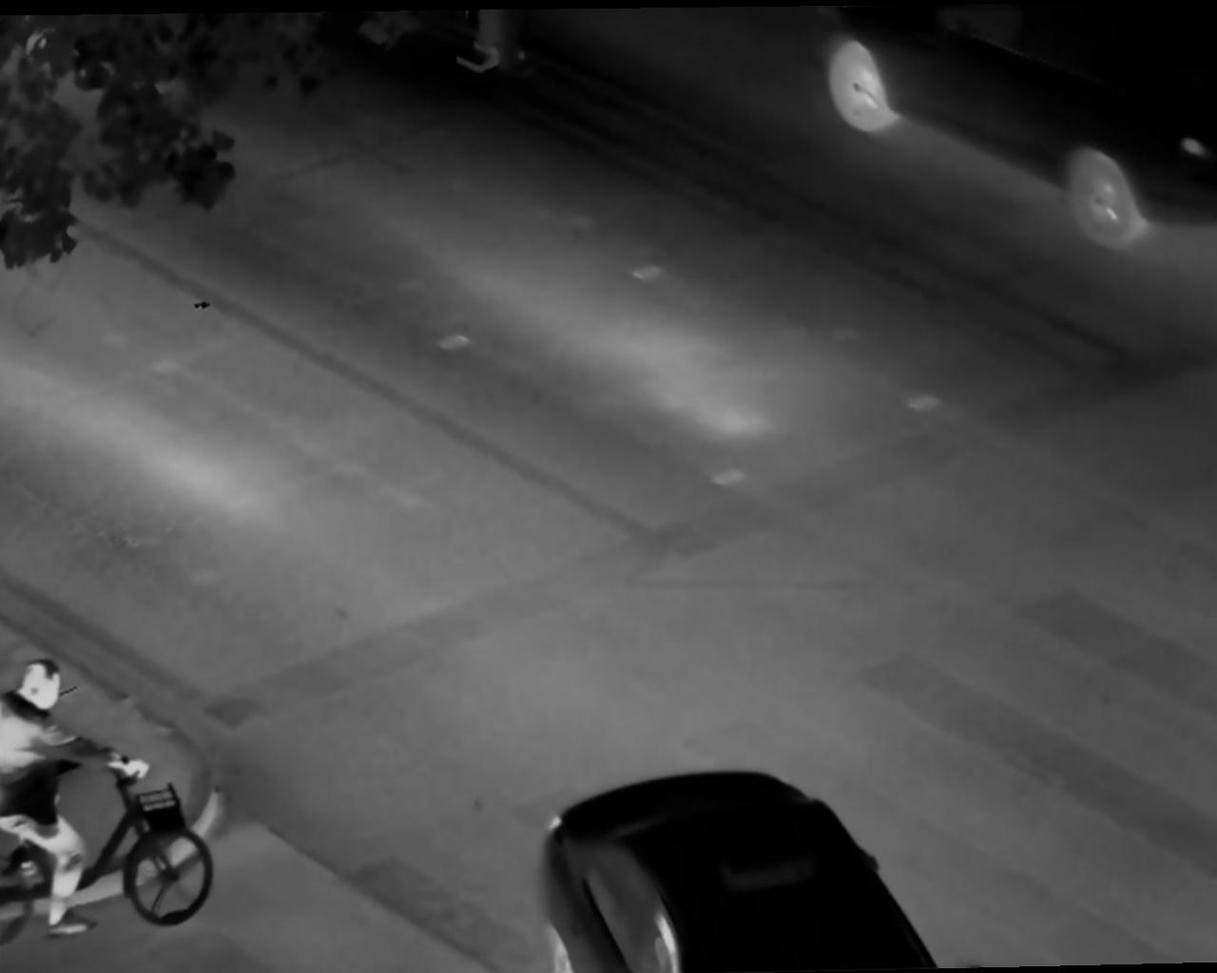person: (5, 645, 121, 937)
